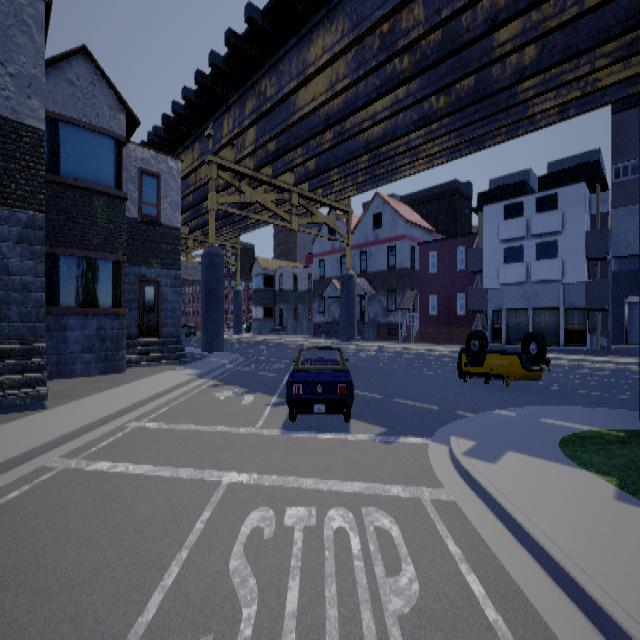vehicle: (456, 328, 550, 386), (284, 344, 353, 421)
